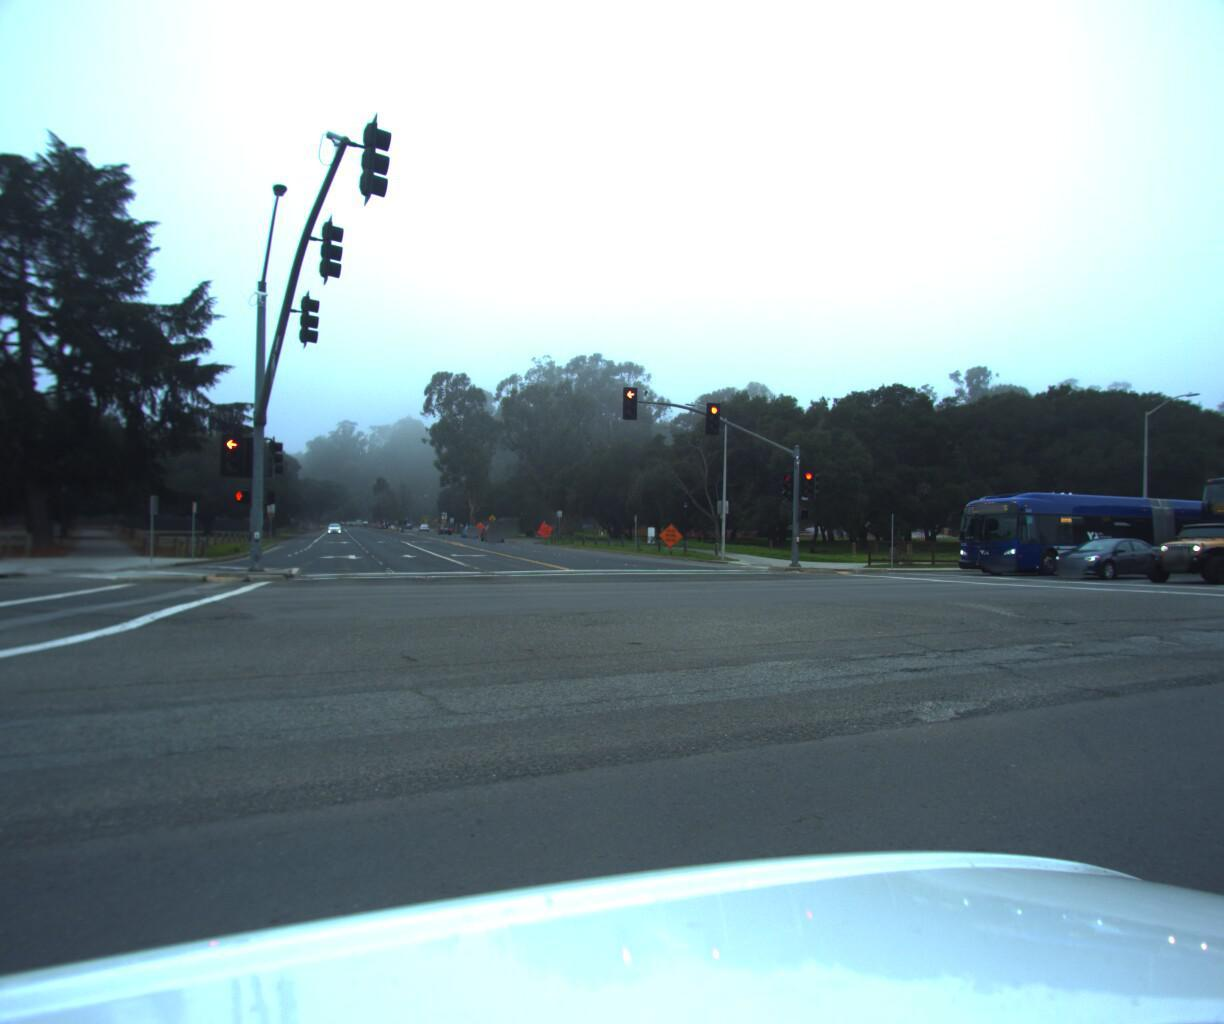bus: (931, 480, 1224, 574), (1171, 461, 1224, 571)
car: (1035, 530, 1170, 578), (1131, 516, 1224, 581), (482, 524, 507, 540), (1221, 519, 1224, 593)
